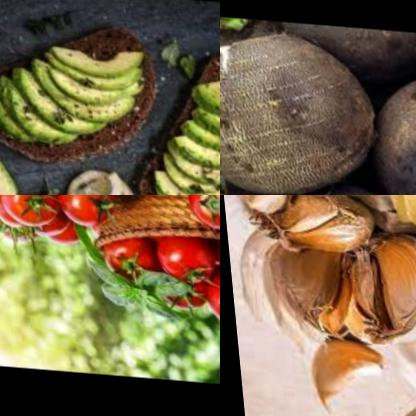avocado: (0, 29, 145, 153), (139, 53, 220, 195)
garlic: (238, 218, 354, 351), (324, 220, 416, 361), (250, 195, 376, 269), (301, 323, 394, 407), (371, 195, 416, 265)
redka: (220, 24, 376, 195), (271, 18, 416, 89), (361, 56, 416, 195), (220, 169, 416, 195), (220, 13, 287, 63)
tomato: (147, 229, 220, 289), (96, 235, 158, 286), (53, 195, 116, 228), (0, 195, 59, 229), (31, 208, 78, 247), (160, 279, 208, 315), (178, 195, 220, 227), (204, 278, 220, 325), (0, 195, 21, 230)
